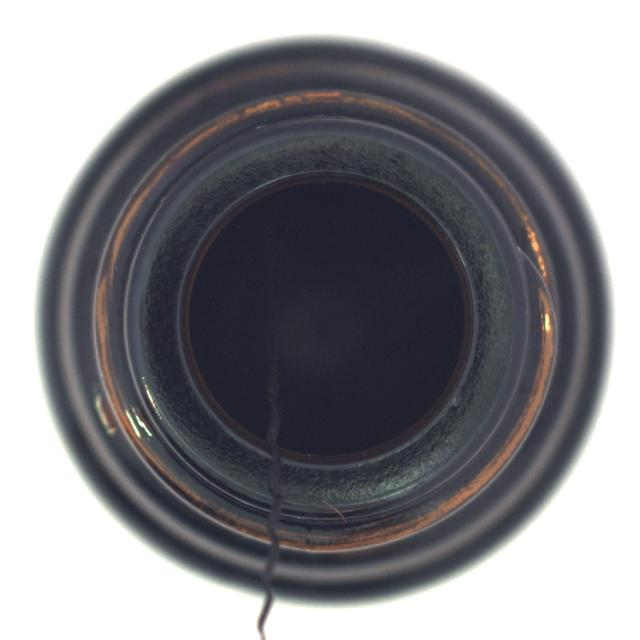bad-contamination: (35, 33, 614, 609)
